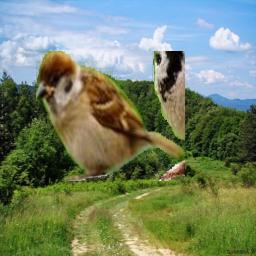Sparrow: (36, 51, 185, 181)
